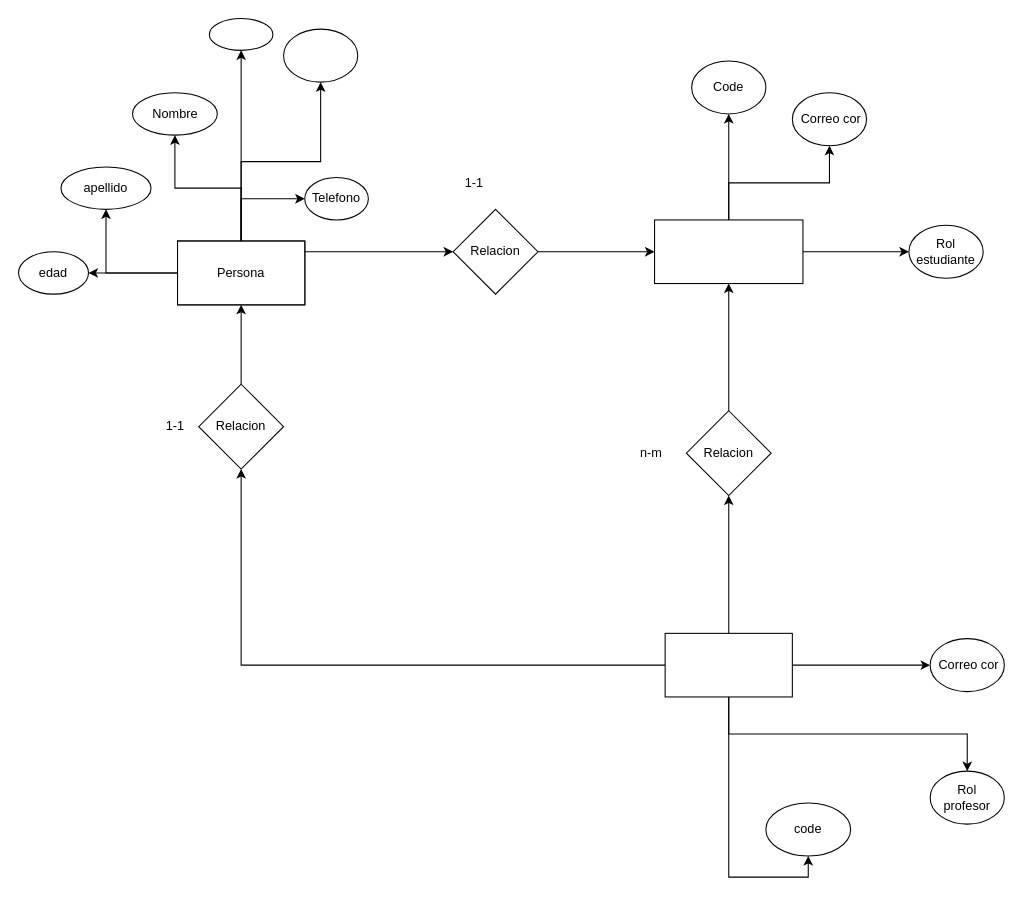
The diagram is 1023 pixels wide and 904 high, and some of its shapes have lost their labels. Each missing label, with the centre of its shape:
Celular: the point at 320,55
Estduiante: the point at 728,251
genero: the point at 240,33
Profesor: the point at 728,664
